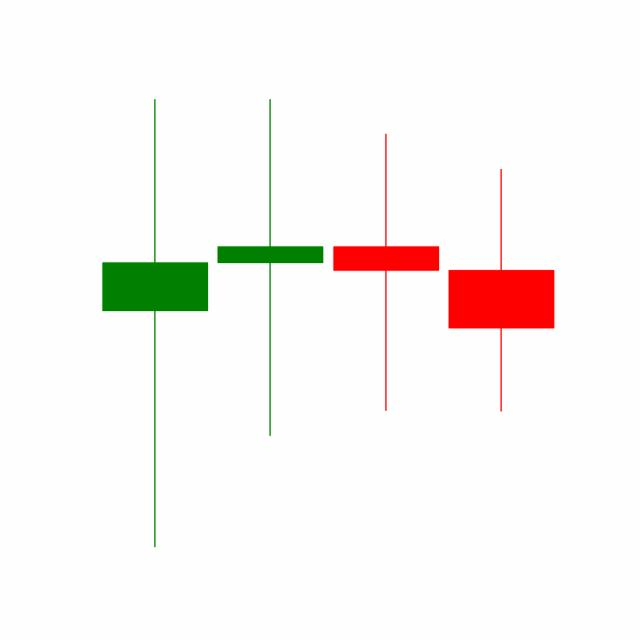Spinning Top: (328, 130, 444, 413)
